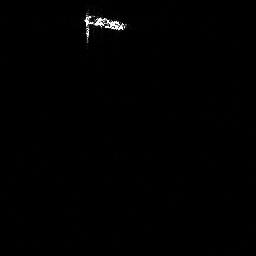ship: (82, 9, 128, 43)
